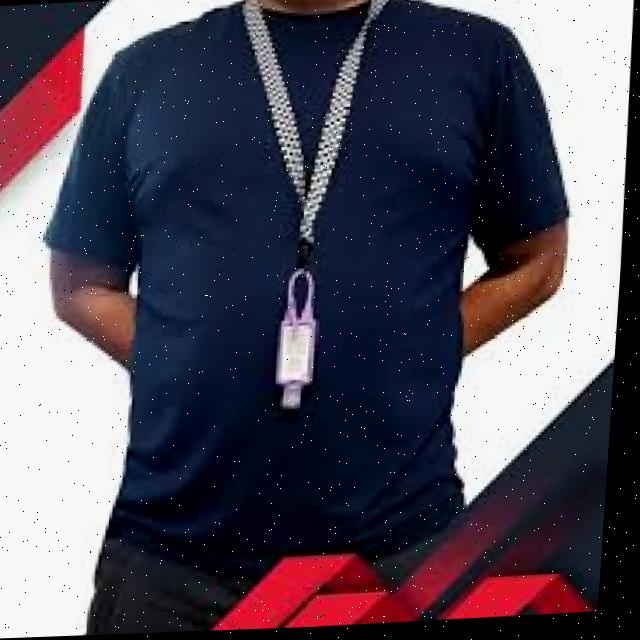id_card: (218, 0, 384, 420)
